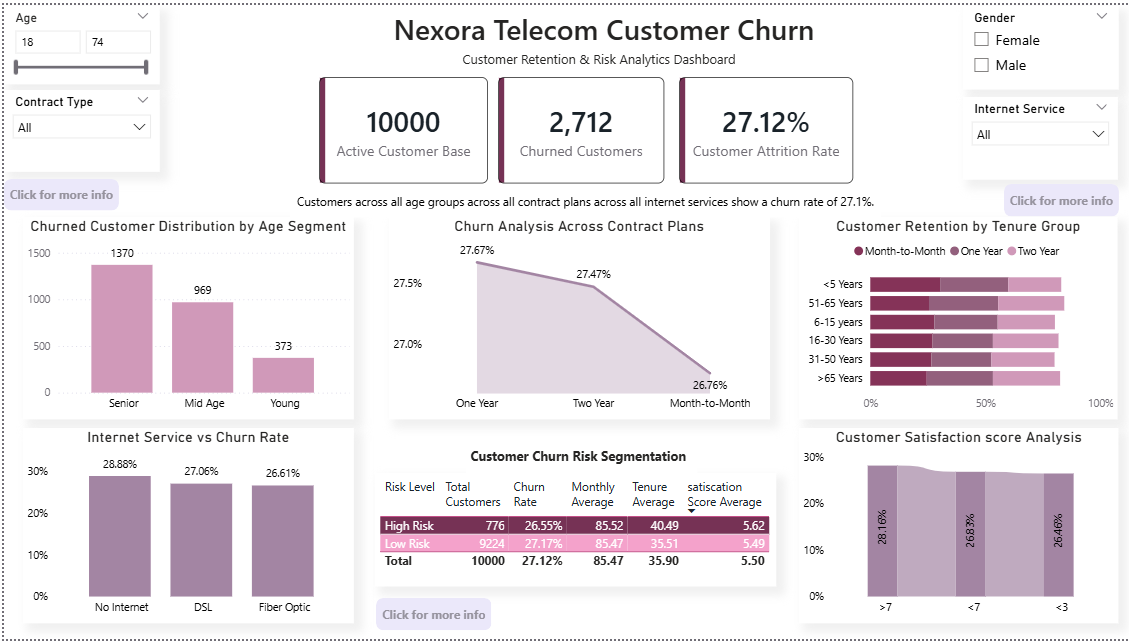

This screenshot's page, from the dashboard's own definition file:
{"tool":"powerbi","page":{"name":"Nexora Dashboard","canvas":[1280,720],"ordinal":0},"visuals":[{"type":"textbox","box":[437.3,0,493.8,57.7],"z":0},{"type":"cardVisual","fields":{"Data":["Measures (2).Total_customers"]},"box":[349.6,73.8,208.8,137.3],"z":1000},{"type":"cardVisual","fields":{"Data":["Measures (2).Churner_customers"]},"box":[553.8,73.8,205.4,137.3],"z":2000},{"type":"cardVisual","fields":{"Data":["Measures (2).Churn Rate2"]},"box":[759.2,73.8,214.6,137.3],"z":3000},{"type":"columnChart","title":"Churned Customer Distribution by Age Segment","fields":{"Category":["Nexora_Telecom_Customer_Churn_10000_Unique.Age group"],"Y":["Measures (2).Churned_customers"]},"box":[21.9,241.2,376.2,229.6],"z":4000},{"type":"areaChart","title":"Churn Analysis Across Contract Plans","fields":{"Y":["Measures (2).Churn Rate"],"Category":["Nexora_Telecom_Customer_Churn_10000_Unique.ContractType"]},"box":[437.3,241.2,432.7,229.6],"z":5000},{"type":"barChart","title":"Customer Retention by Tenure Group","fields":{"Category":["Nexora_Telecom_Customer_Churn_10000_Unique.Tenure specifications"],"Series":["Nexora_Telecom_Customer_Churn_10000_Unique.ContractType"],"Y":["Measures (2).Churn Rate"]},"box":[903.5,241.2,362.3,229.6],"z":6000},{"type":"columnChart","title":"Internet Service vs Churn Rate","fields":{"Category":["Nexora_Telecom_Customer_Churn_10000_Unique.InternetService"],"Y":["Measures (2).Churn Rate"]},"box":[21.9,481.2,376.2,221.5],"z":7000},{"type":"slicer","fields":{"Values":["Nexora_Telecom_Customer_Churn_10000_Unique.Age"]},"box":[0,1.2,176.5,88.8],"z":8000},{"type":"slicer","fields":{"Values":["Nexora_Telecom_Customer_Churn_10000_Unique.ContractType"]},"box":[0,96.3,176.5,92.6],"z":9000},{"type":"slicer","fields":{"Values":["Nexora_Telecom_Customer_Churn_10000_Unique.Gender"]},"box":[1089.2,1.2,176.5,94.6],"z":10000},{"type":"slicer","fields":{"Values":["Nexora_Telecom_Customer_Churn_10000_Unique.InternetService"]},"box":[1090,104.1,176.5,93.5],"z":11000},{"type":"ribbonChart","title":"Customer  Satisfaction score Analysis","fields":{"Y":["Measures (2).Churn Rate"],"Category":["Nexora_Telecom_Customer_Churn_10000_Unique.Satisfaction score Biferciation"]},"box":[903.5,481.2,363.5,221.5],"z":12000},{"type":"tableEx","fields":{"Values":["Nexora_Telecom_Customer_Churn_10000_Unique.Risk Level","Measures (2).Total_customers","Measures (2).Churn Rate","Measures (2).Monthly Average","Measures (2).Tenure Average","Measures (2).satiscation Score Average"]},"box":[421.2,531.9,455.8,129.2],"z":13000},{"type":"textbox","box":[525,497.3,263.1,34.6],"z":14000},{"type":"textbox","box":[515.8,46.2,332.3,34.6],"z":15000},{"type":"shape","box":[325.4,203.1,671.5,38.1],"z":16000},{"type":"actionButton","box":[1135.9,202.9,130.6,37.1],"z":17000},{"type":"actionButton","box":[422.7,673.3,131.3,36.7],"z":18000},{"type":"actionButton","box":[0,197.6,130.6,35.9],"z":19000}]}

Visuals, with their boxes in screenshot pixels (x1, y1, x2, y2), scaled from the page's 1280x720 canvas onto the 1129x641 screenshot:
textbox: 386 0 821 51
cardVisual - Measures (2).Total_customers: 308 66 493 188
cardVisual - Measures (2).Churner_customers: 488 66 670 188
cardVisual - Measures (2).Churn Rate2: 670 66 859 188
"Churned Customer Distribution by Age Segment" columnChart: 19 215 351 419
"Churn Analysis Across Contract Plans" areaChart: 386 215 767 419
"Customer Retention by Tenure Group" barChart: 797 215 1116 419
"Internet Service vs Churn Rate" columnChart: 19 428 351 626
slicer - Nexora_Telecom_Customer_Churn_10000_Unique.Age: 0 1 156 80
slicer - Nexora_Telecom_Customer_Churn_10000_Unique.ContractType: 0 86 156 168
slicer - Nexora_Telecom_Customer_Churn_10000_Unique.Gender: 961 1 1116 85
slicer - Nexora_Telecom_Customer_Churn_10000_Unique.InternetService: 961 93 1117 176
"Customer  Satisfaction score Analysis" ribbonChart: 797 428 1118 626
tableEx - Nexora_Telecom_Customer_Churn_10000_Unique.Risk Level x Measures (2).Total_customers: 372 474 774 589
textbox: 463 443 695 474
textbox: 455 41 748 72
shape: 287 181 879 215
actionButton: 1002 181 1117 214
actionButton: 373 599 489 632
actionButton: 0 176 115 208
